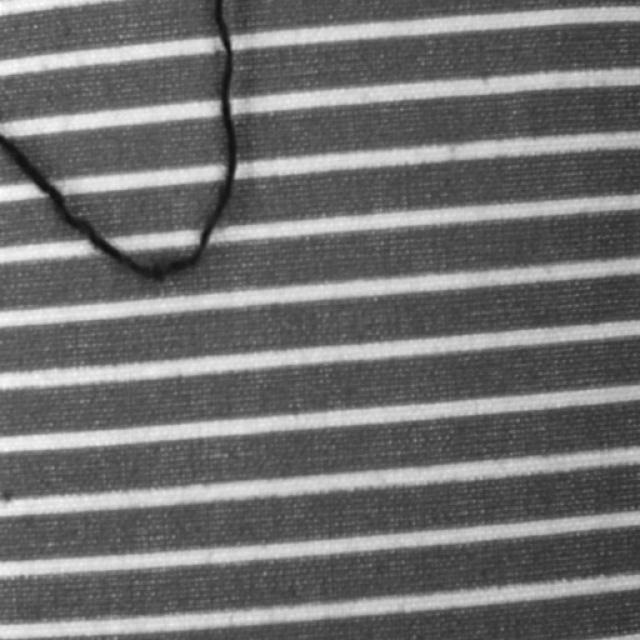Foreign-Body-Defect: (0, 0, 236, 281)
